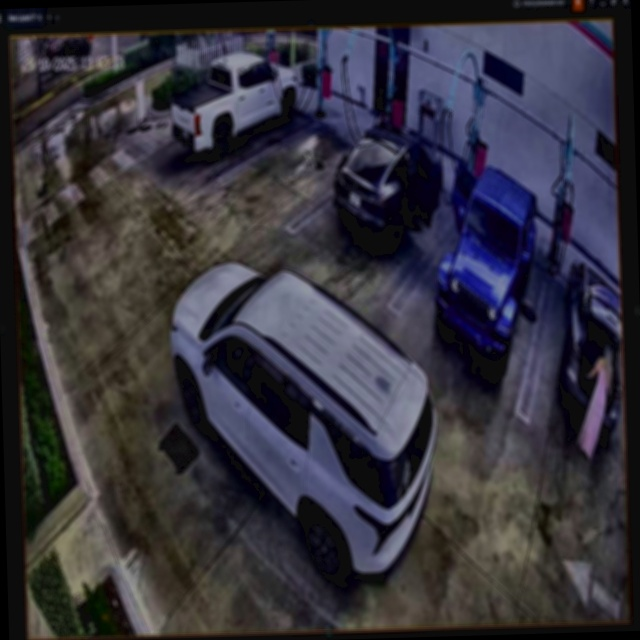Car: (168, 257, 443, 587), (432, 161, 541, 373), (171, 52, 301, 162), (335, 122, 445, 246)
